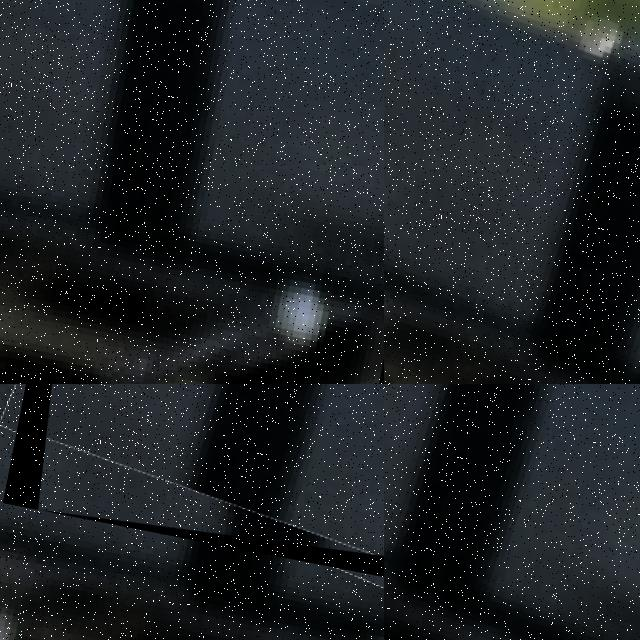drone: (384, 0, 640, 384), (3, 384, 384, 599), (384, 384, 640, 640)
